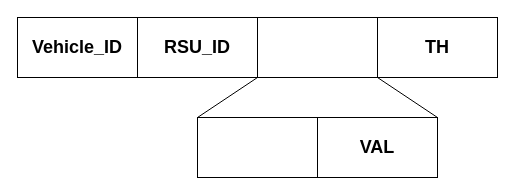
This 515x195 diagram has some shape labels left out. Here are the shapes that lost their labels. From the top down, the centre of each, then its label:
(317,47): DATA
(257,147): TS
